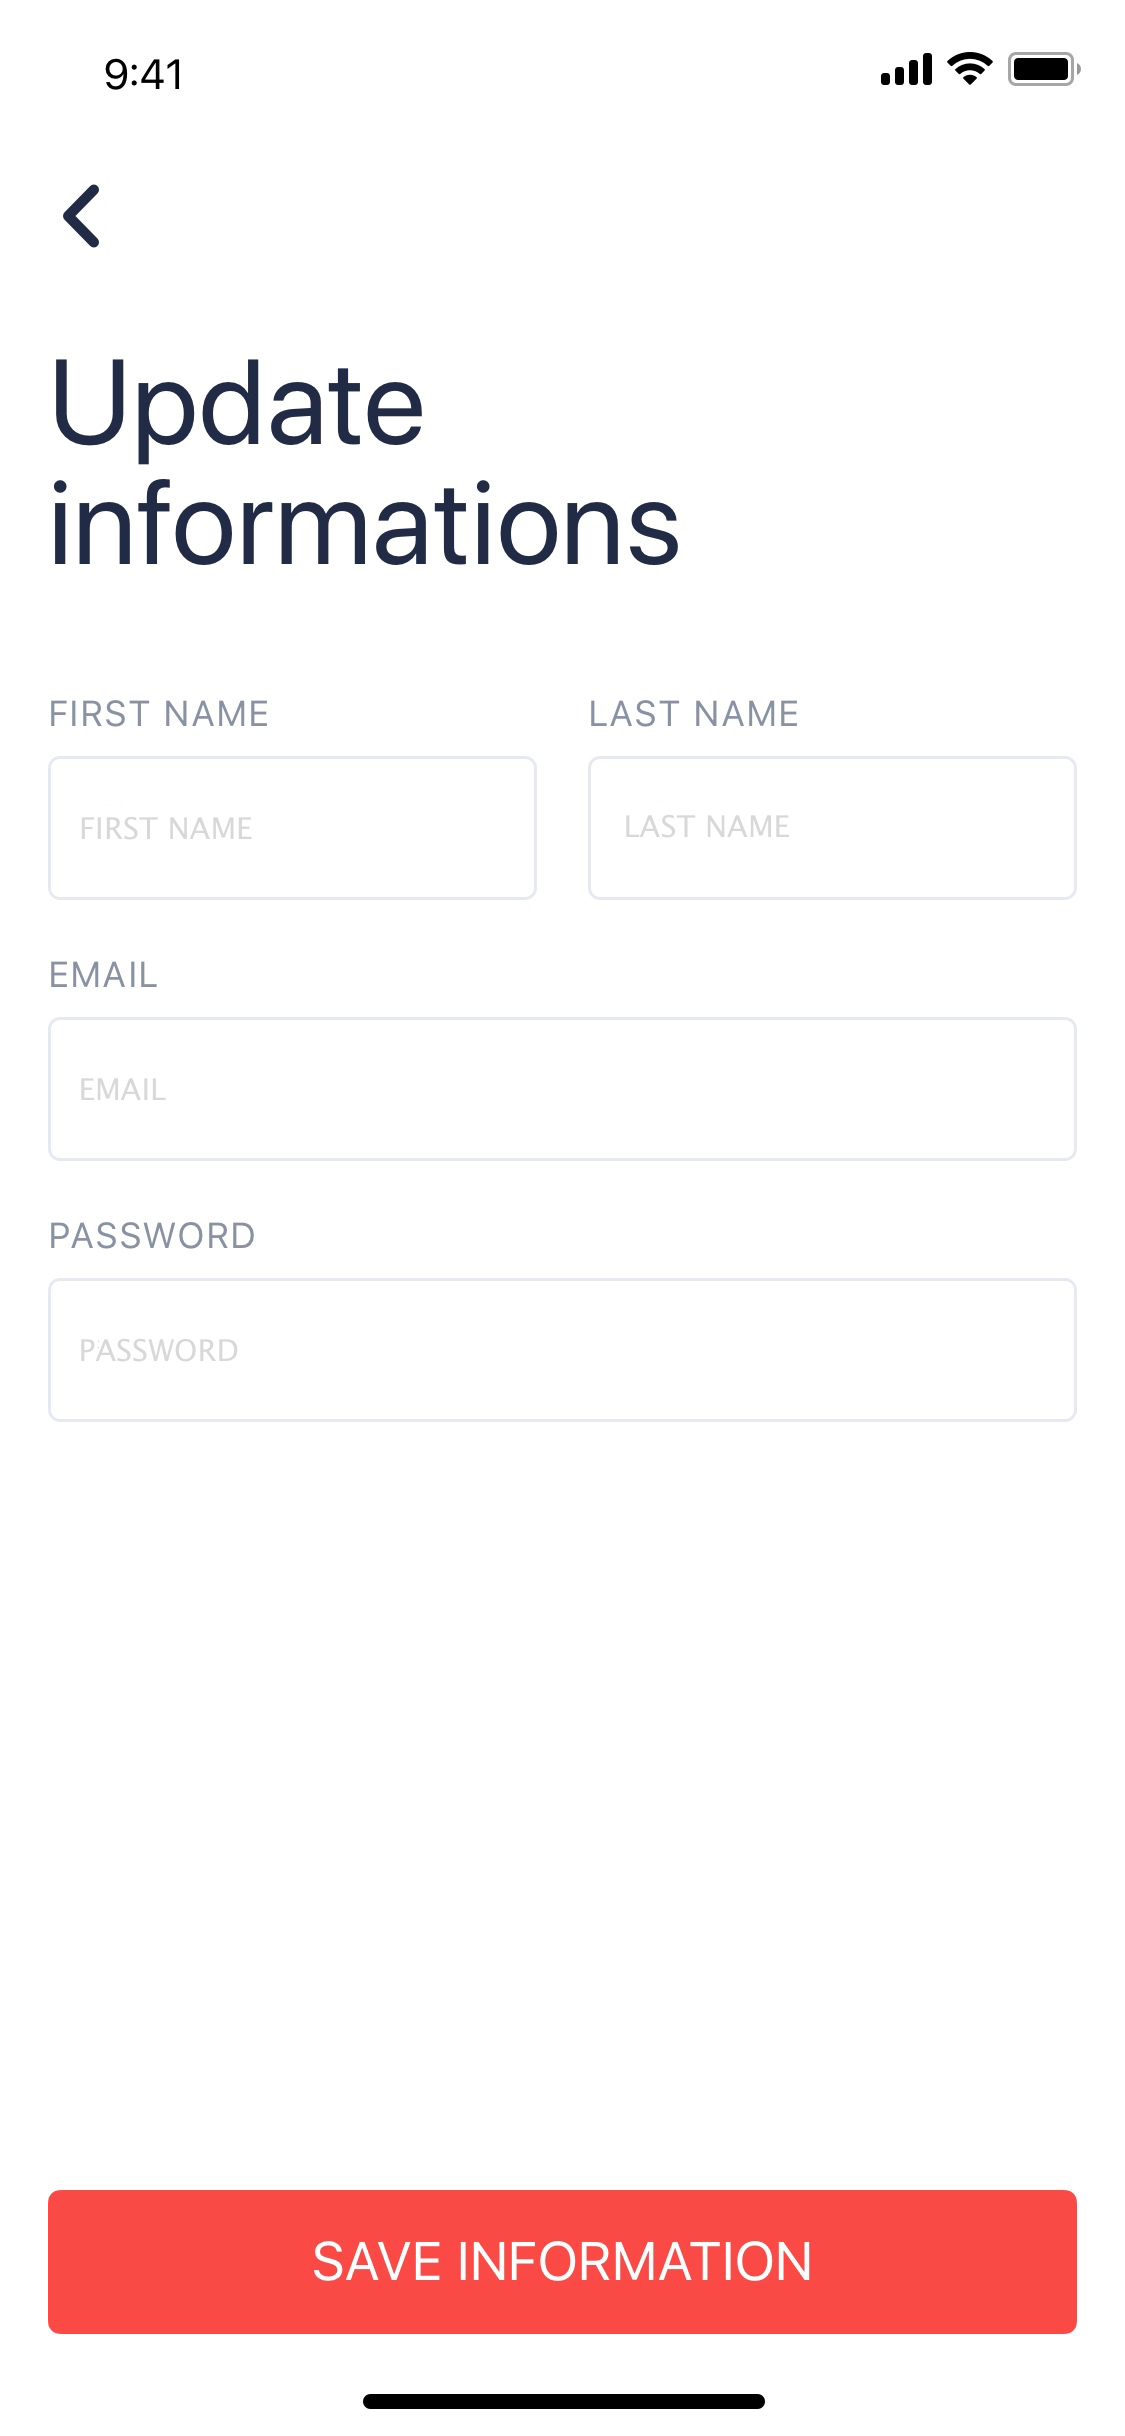EditText: (48, 1279, 1078, 1423), (48, 1018, 1078, 1162), (587, 757, 1078, 901), (48, 757, 538, 901)
Icon: (64, 183, 101, 250)
Text: (54, 359, 679, 567), (51, 699, 269, 729), (51, 1221, 256, 1251), (590, 701, 799, 729), (82, 816, 253, 840), (79, 1338, 238, 1362), (625, 816, 789, 839), (51, 960, 158, 990), (81, 1078, 166, 1101)
TextButton: (48, 2189, 1078, 2335)
UpperTaskBar: (106, 51, 1083, 92)
